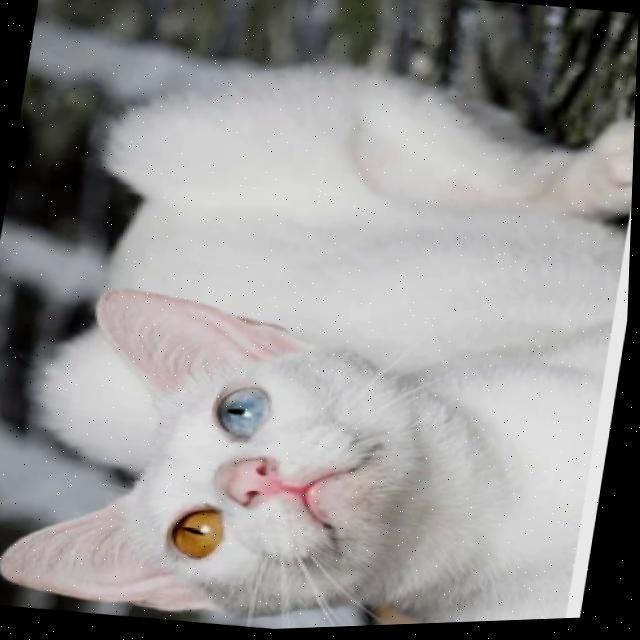Khao Manee: (0, 4, 639, 640)
